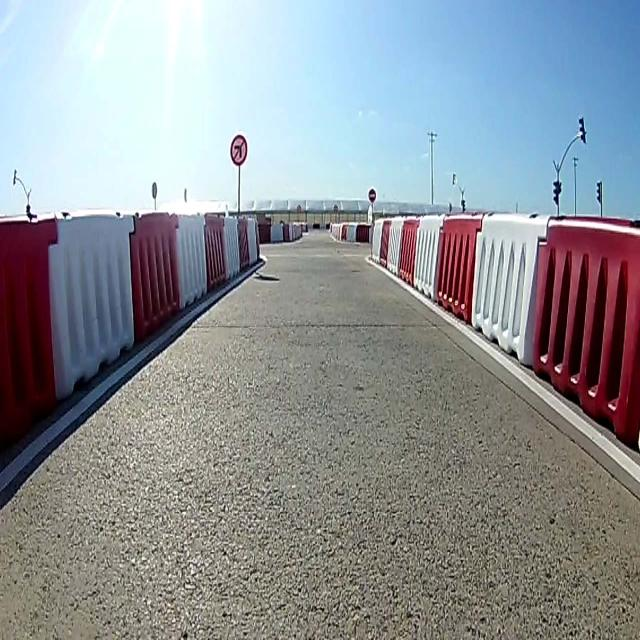girisyok: (368, 185, 376, 203)
soladonulmez: (228, 130, 250, 169)
